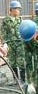boots: (0, 88, 13, 94), (0, 88, 8, 94)
gloves: (0, 16, 7, 33), (0, 28, 9, 40)
hard-hat: (0, 0, 17, 22)
ppe-suit: (0, 47, 19, 94)
